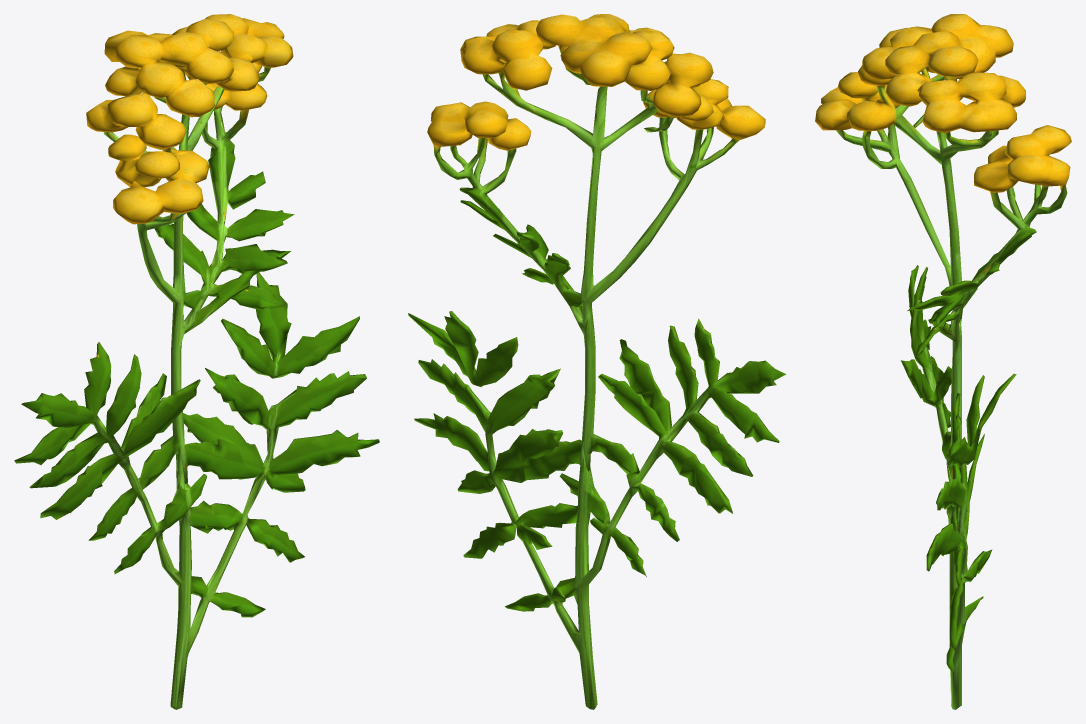
Rendered from field_flower_3.glb.
3 renders of one model, left to right at view 1: azimuth 30°, elevation 25°; view 2: azimuth 150°, elevation 25°; view 3: azimuth 270°, elevation 25°, orthographic.
Bounding box in the file's own units: 1.07 × 1.9 × 0.6575.
Materials: 1 (1 with a texture image).
